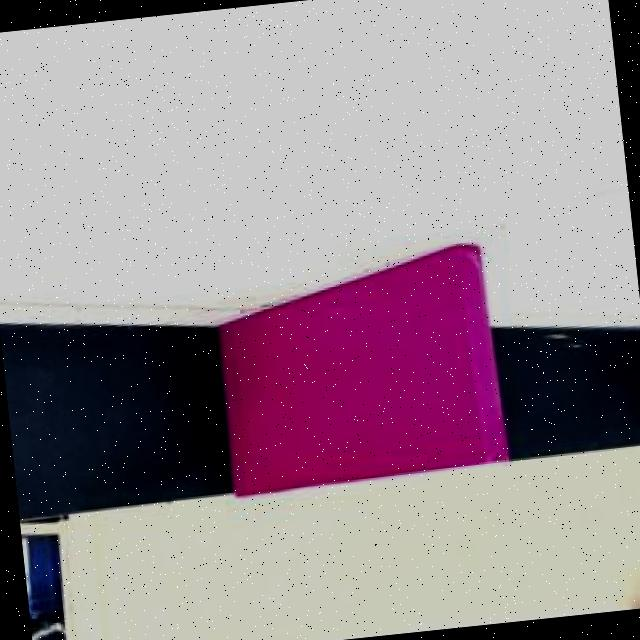xparking: (220, 293, 510, 494)
